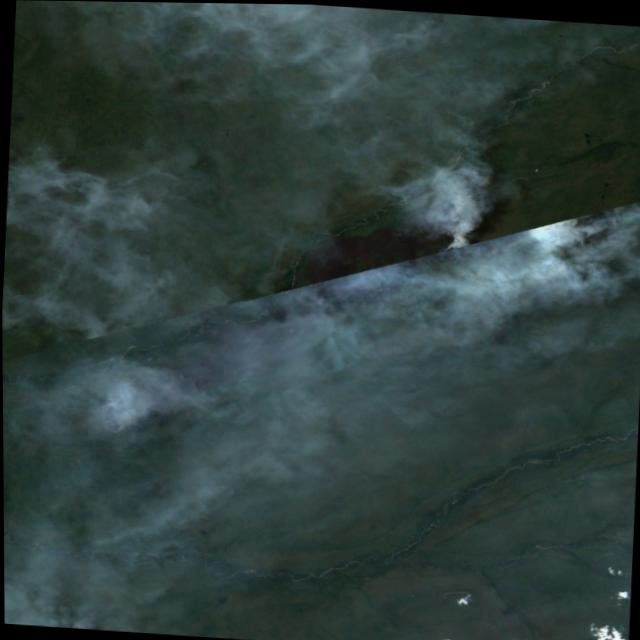fire: (426, 194, 551, 255), (93, 394, 134, 439)
